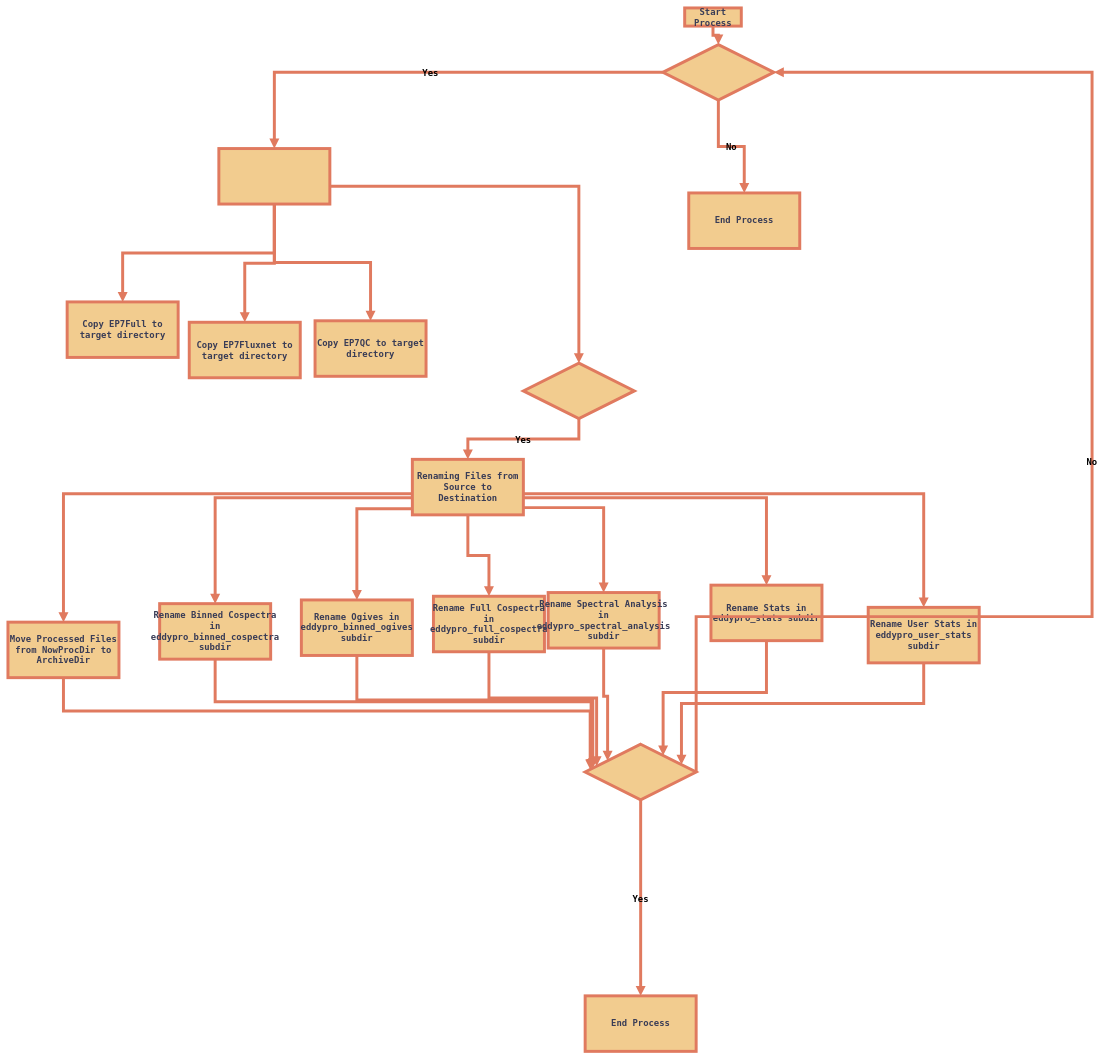
Image size: 1104x1059. Some labels were removed from this diagram. Each missing label, with the centre of its shape:
"Are all files processed?" goes at pixel 640 772.
"Are there files to copy?" goes at pixel 718 72.
"Copy Files from EddyPro7Dir" goes at pixel 274 176.
"Next step: Renaming Files?" goes at pixel 579 390.
